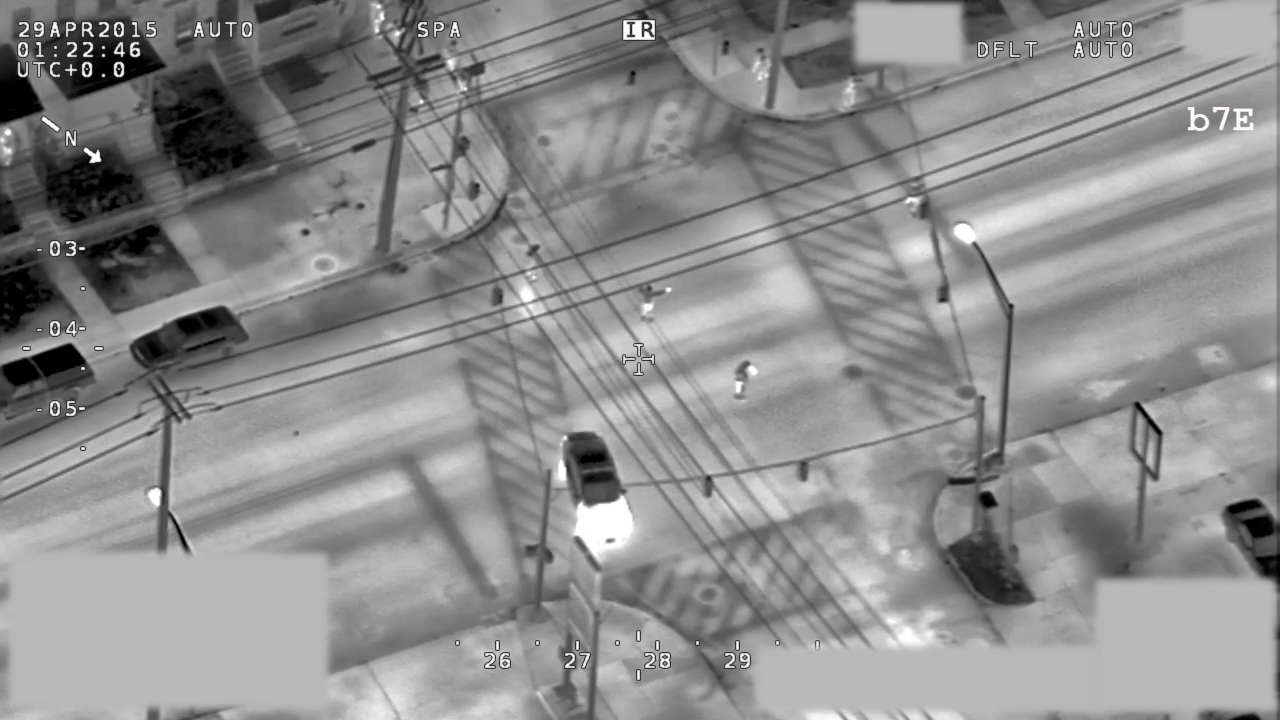vehicle: (556, 430, 639, 558), (123, 301, 253, 376), (1, 335, 97, 427), (1215, 491, 1280, 577)
